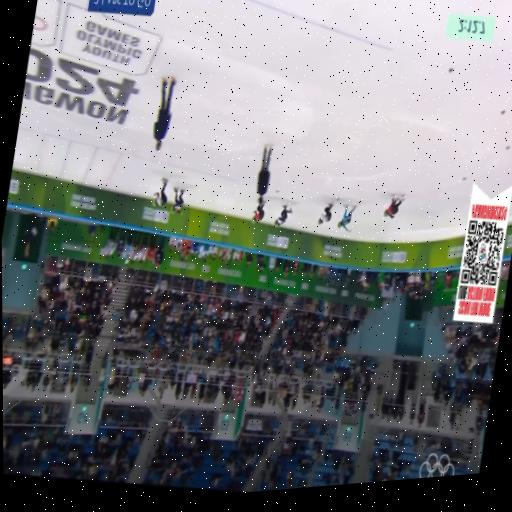Skater: (338, 205, 356, 231), (274, 205, 292, 226), (385, 195, 403, 216), (171, 187, 185, 213), (154, 178, 167, 206), (319, 203, 333, 223), (253, 200, 265, 222)
